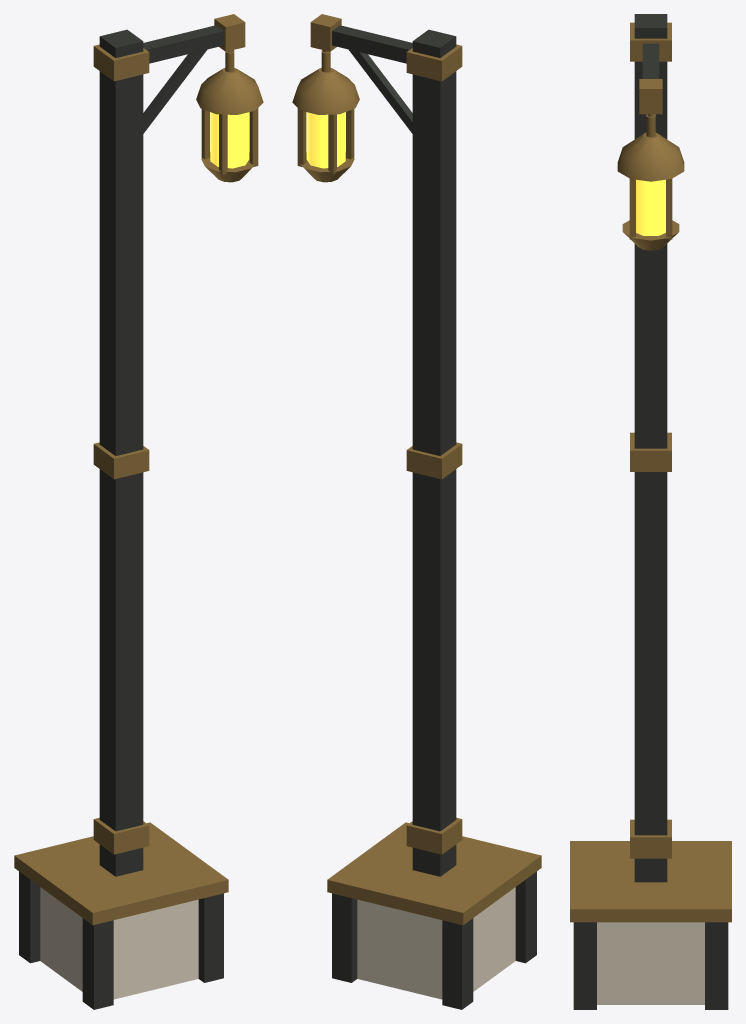
Rendered from lamp_tall.glb.
3 views of the same model, side by side, from view 1: azimuth 30°, elevation 25°; view 2: azimuth 150°, elevation 25°; view 3: azimuth 270°, elevation 25° (orthographic). The views are drawn at different scales.
Visible parts, largest first — view 1: lamp_tall; view 2: lamp_tall; view 3: lamp_tall.
Boxes of the visible parts, bbox=[...] form: lamp_tall: bbox=[14, 14, 263, 1009]; lamp_tall: bbox=[292, 14, 541, 1009]; lamp_tall: bbox=[570, 14, 731, 1009].
Size of the model in its own units: 1.04 by 4.5 by 0.69.
